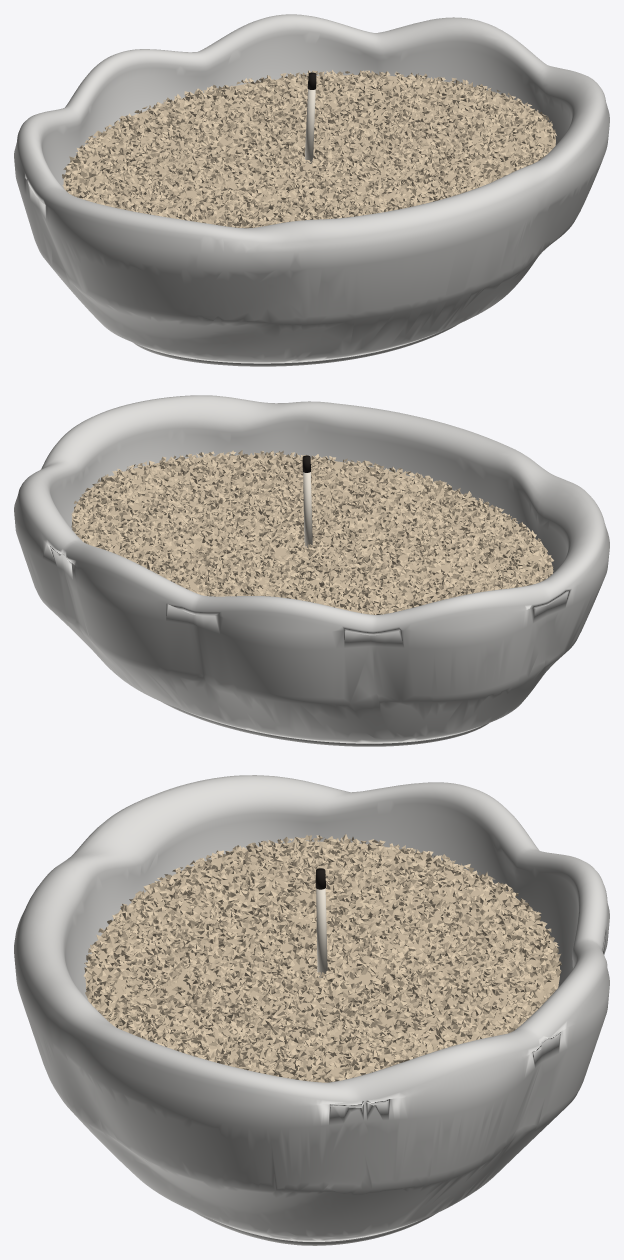
The model's file is concha.glb.
The picture shows the model from 3 angles, top to bottom: view 1: azimuth 30°, elevation 25°; view 2: azimuth 150°, elevation 25°; view 3: azimuth 270°, elevation 25°; orthographic projection. The views are drawn at different scales.
Parts seen in each view (by area): view 1: Concha, Areia, Pavio0; view 2: Concha, Areia, Pavio0; view 3: Concha, Areia, Pavio0.
Boxes of the visible parts, bbox=[...] form: Concha: bbox=[14, 14, 609, 366]; Areia: bbox=[62, 70, 556, 228]; Pavio0: bbox=[304, 89, 315, 163]; Concha: bbox=[14, 395, 609, 746]; Areia: bbox=[71, 450, 553, 614]; Pavio0: bbox=[303, 472, 312, 547]; Concha: bbox=[14, 775, 609, 1245]; Areia: bbox=[83, 834, 561, 1082]; Pavio0: bbox=[316, 888, 327, 977].
Size of the model in its own units: 0.158 by 0.064 by 0.1261.
